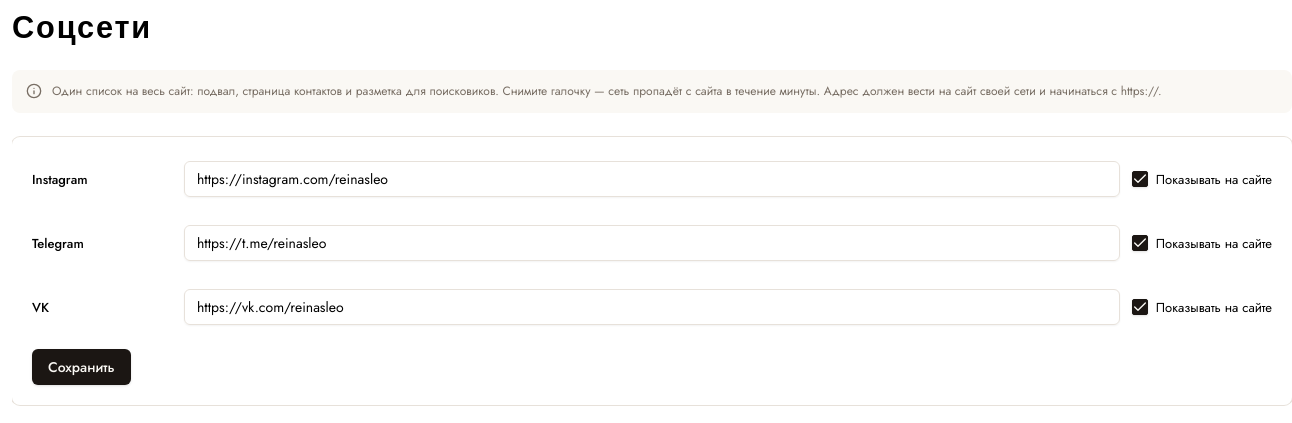
Test: admin socials — one list for the whole site › on a computer: untick a network, save — the whole list goes to the server
Click the checkbox named "Показывать Instagram на сайте" at (1140, 179), box [1132,171,1148,187]
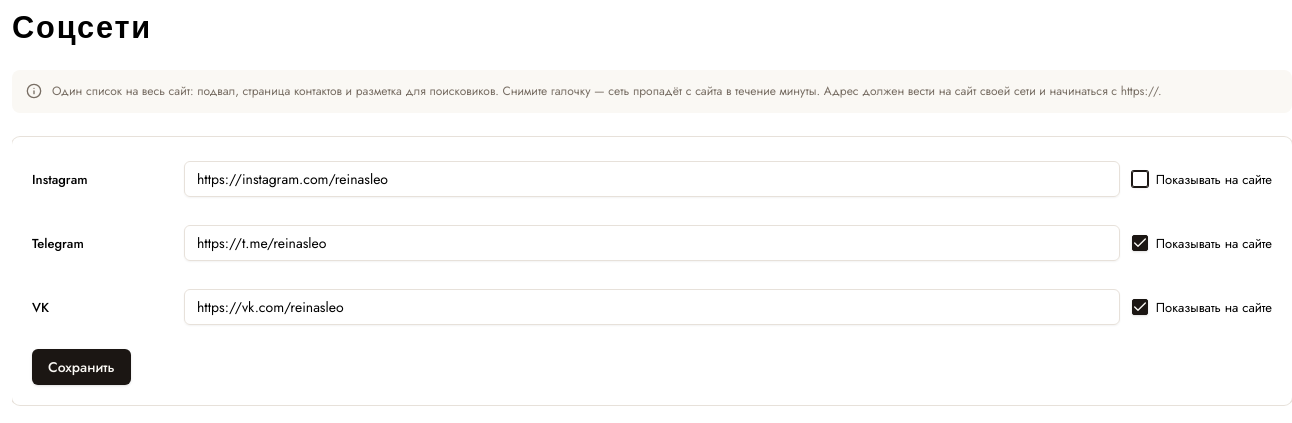
Click the button "Сохранить" at (81, 367), box [32,349,131,385]
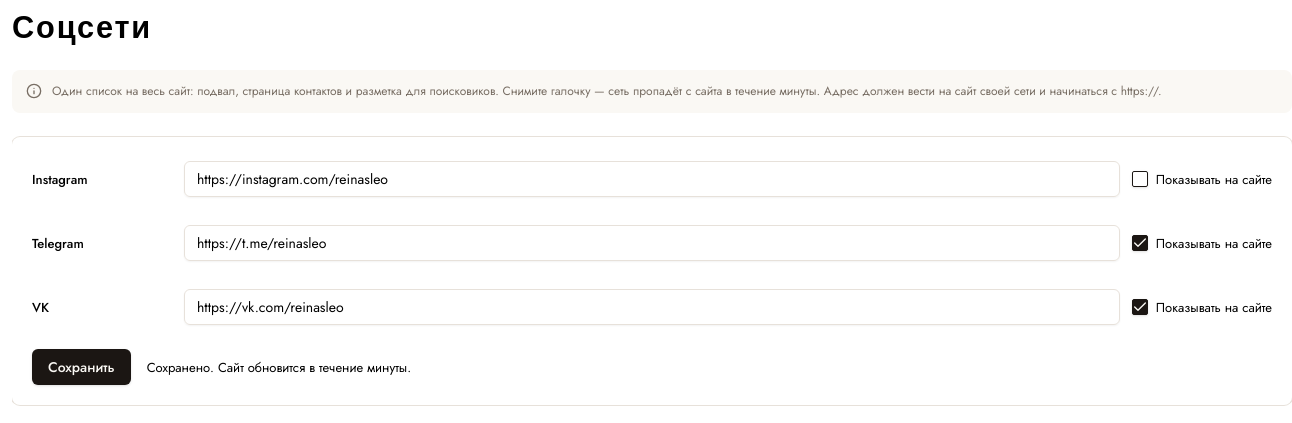
Expected: the message reads "Сохранено. Сайт обновится в течение минуты.", [147,358,411,376]
